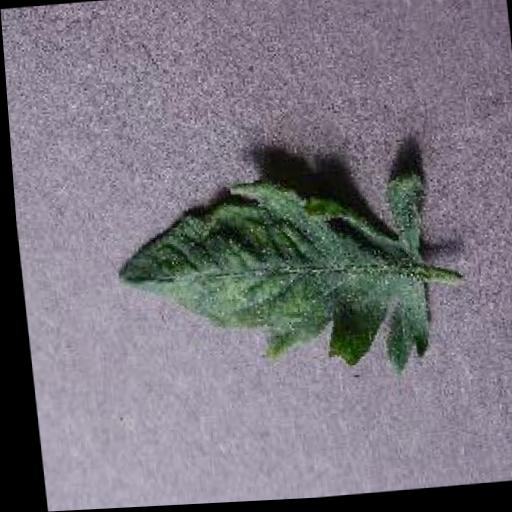Mosaic Virus: (97, 161, 447, 399)
